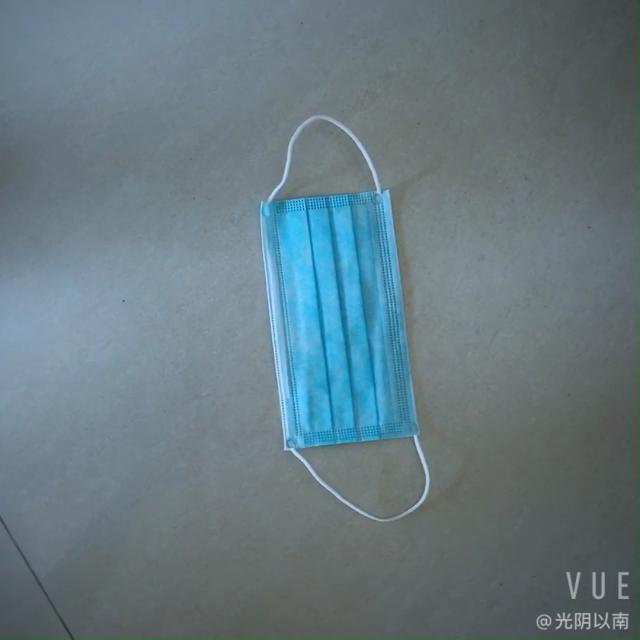non-organic waste: (250, 143, 424, 471)
